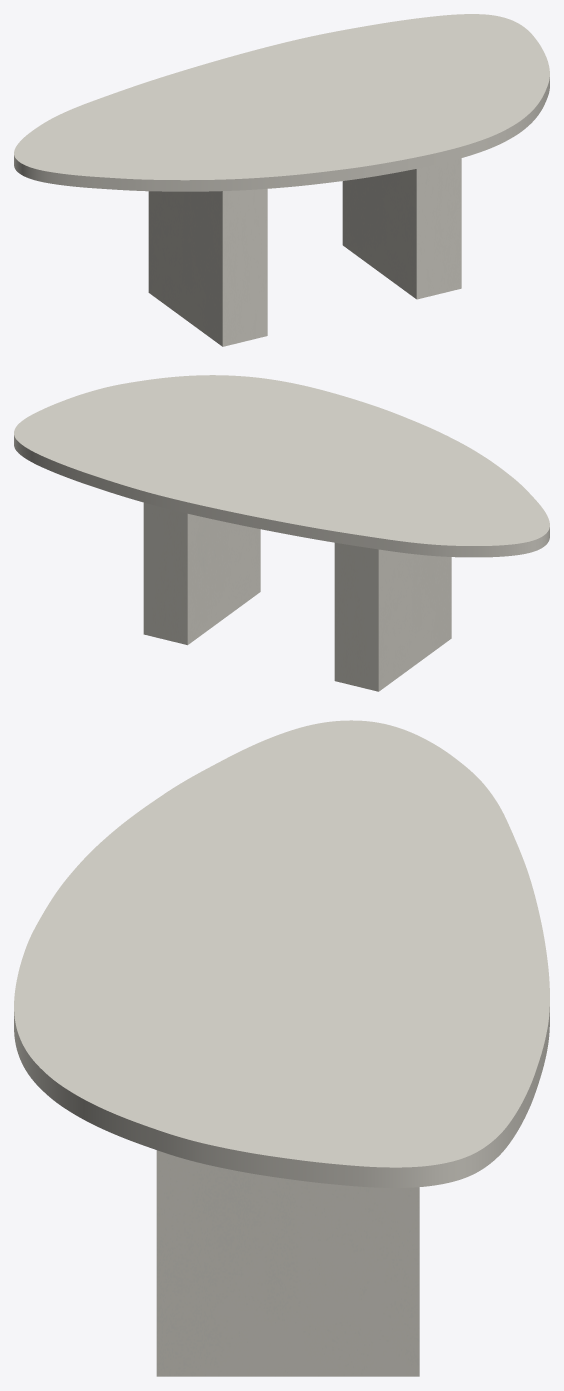
The model's file is pale_pebbletop_standard_ridge.glb.
The picture shows the model from 3 angles, top to bottom: view 1: azimuth 30°, elevation 25°; view 2: azimuth 150°, elevation 25°; view 3: azimuth 270°, elevation 25°; orthographic projection. The views are drawn at different scales.
Parts seen in each view (by area): view 1: standard_pebbletop, ridge; view 2: standard_pebbletop, ridge; view 3: standard_pebbletop, ridge.
Boxes of the visible parts, x1=… form: standard_pebbletop: x1=14, y1=14, x2=549, y2=191; ridge: x1=148, y1=158, x2=461, y2=346; standard_pebbletop: x1=14, y1=375, x2=549, y2=557; ridge: x1=143, y1=502, x2=451, y2=691; standard_pebbletop: x1=14, y1=720, x2=549, y2=1187; ridge: x1=156, y1=1150, x2=419, y2=1376.
Bounding box in the file's own units: 7.5 × 2.51 × 3.8.
1 material, 1 textured.
